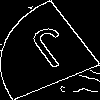J: (25, 24, 85, 78)
